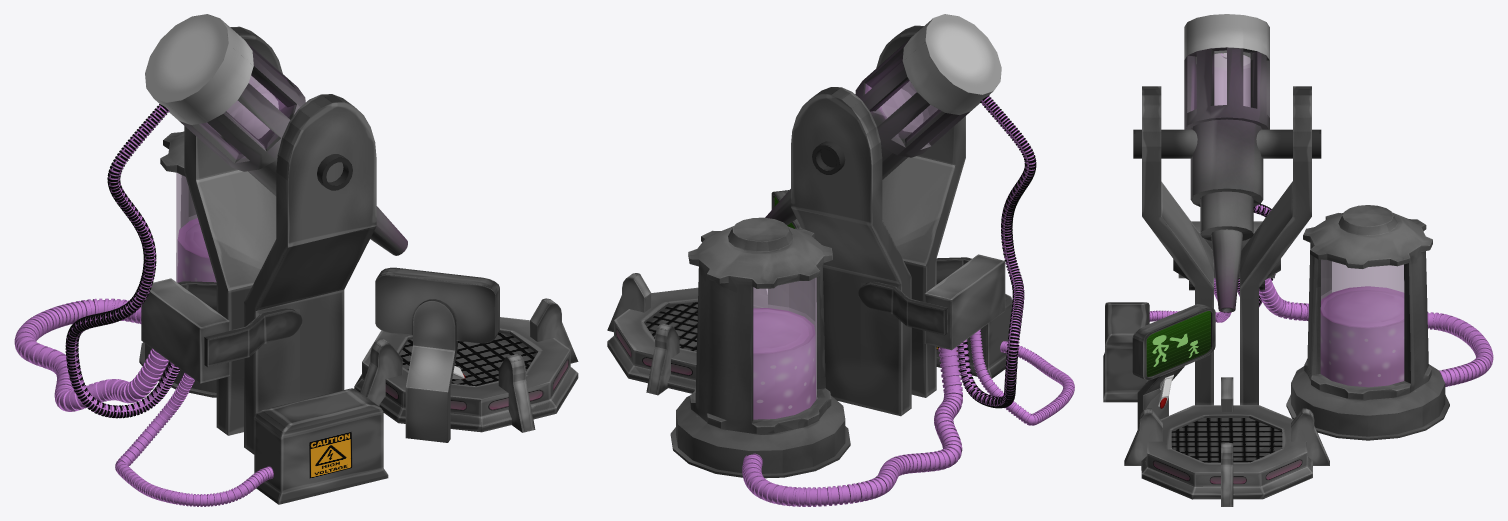
File: Shring-Grow-Pads.fbx
The picture shows the model from 3 angles, left to right: view 1: azimuth 30°, elevation 25°; view 2: azimuth 150°, elevation 25°; view 3: azimuth 270°, elevation 25°; orthographic projection. The views are drawn at different scales.
Parts seen in each view (by area): view 1: HoldingGasinator, ComputerScreen, PowerBox, ShrinkPad, GasInatorEndCap, GasInator, Cylinder.005, Cylinder.007, InfuserBox, Tubing, InfusorHolder, ShrinkPadSides (+5 smaller); view 2: HoldingGasinator, GasChamber.001, GasChamber, GasInatorEndCap, Cylinder.007, GasInator, Liquid, ShrinkPad, Cylinder.005, InfuserBox, InfusorHolder, Tubing (+4 smaller); view 3: GasChamber.001, GasInator, HoldingGasinator, ShrinkPad, GasChamber, Liquid, ComputerScreen, GasInatorEndCap, PowerBox, Cylinder.007, GasInatorHolder, ShrinkPadSides.001 (+1 smaller).
Boxes of the visible parts, bbox=[...] form: HoldingGasinator: bbox=[184, 26, 376, 454]; ComputerScreen: bbox=[375, 267, 499, 442]; PowerBox: bbox=[254, 388, 388, 504]; ShrinkPad: bbox=[354, 317, 578, 432]; GasInatorEndCap: bbox=[145, 14, 278, 139]; GasInator: bbox=[179, 41, 407, 255]; Cylinder.005: bbox=[65, 104, 179, 418]; Cylinder.007: bbox=[14, 298, 169, 411]; InfuserBox: bbox=[141, 278, 229, 383]; Tubing: bbox=[115, 372, 273, 506]; InfusorHolder: bbox=[177, 281, 302, 367]; ShrinkPadSides: bbox=[360, 298, 578, 406]; HoldingGasinator: bbox=[791, 25, 965, 416]; GasChamber.001: bbox=[670, 217, 850, 478]; GasChamber: bbox=[753, 277, 817, 419]; GasInatorEndCap: bbox=[881, 14, 1001, 132]; Cylinder.007: bbox=[742, 347, 962, 506]; GasInator: bbox=[765, 39, 970, 225]; Liquid: bbox=[753, 308, 815, 419]; ShrinkPad: bbox=[607, 287, 767, 393]; Cylinder.005: bbox=[957, 95, 1036, 408]; InfuserBox: bbox=[924, 254, 1005, 350]; InfusorHolder: bbox=[858, 257, 971, 335]; Tubing: bbox=[970, 329, 1074, 425]; GasChamber.001: bbox=[1286, 205, 1449, 440]; GasInator: bbox=[1184, 47, 1269, 312]; HoldingGasinator: bbox=[1142, 86, 1311, 405]; ShrinkPad: bbox=[1141, 405, 1312, 499]; GasChamber: bbox=[1320, 259, 1404, 387]; Liquid: bbox=[1320, 286, 1404, 387]; ComputerScreen: bbox=[1132, 304, 1215, 429]; GasInatorEndCap: bbox=[1184, 14, 1269, 107]; PowerBox: bbox=[1103, 302, 1149, 402]; Cylinder.007: bbox=[1259, 278, 1493, 386]; GasInatorHolder: bbox=[1133, 129, 1321, 158]; ShrinkPadSides.001: bbox=[1124, 408, 1329, 465].
Bounding box in the file's own units: 1560 × 1335 × 1345.
